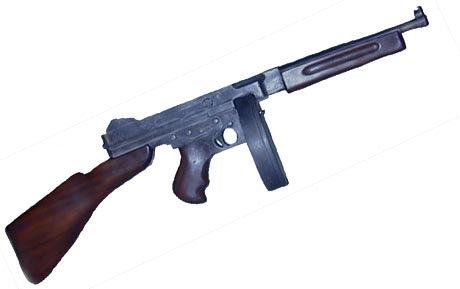rifle: (11, 6, 442, 282)
